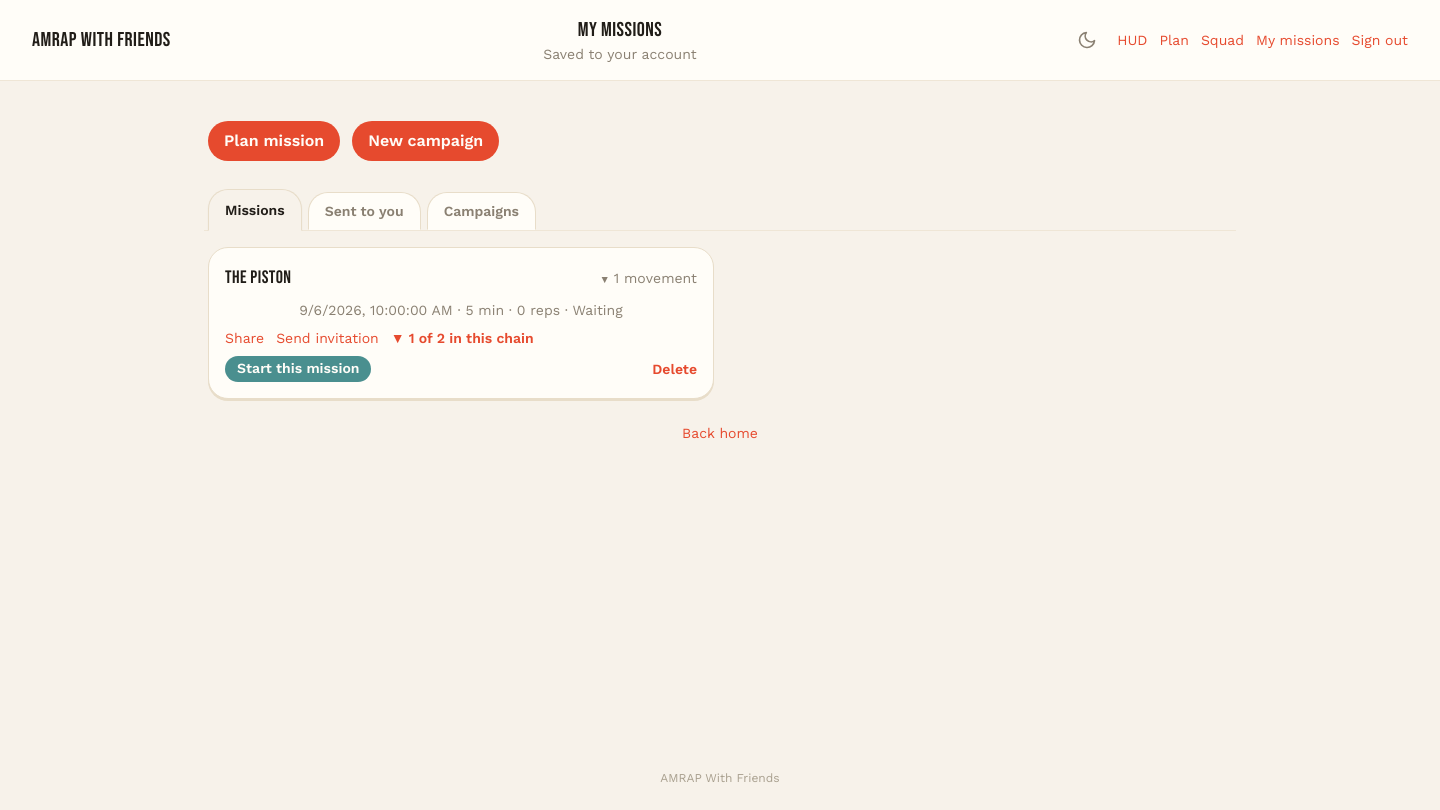
Scenario: MyMissionsPage chain groups › collapses daisy siblings and expands to reveal the older mission
Expected: the text "The Piston" is shown, 225,264 -> 292,292
Expected: the text "The Metronome" is not shown
Click the button with aria-label "Show chained missions" at (462, 338), box 391,328 -> 534,348
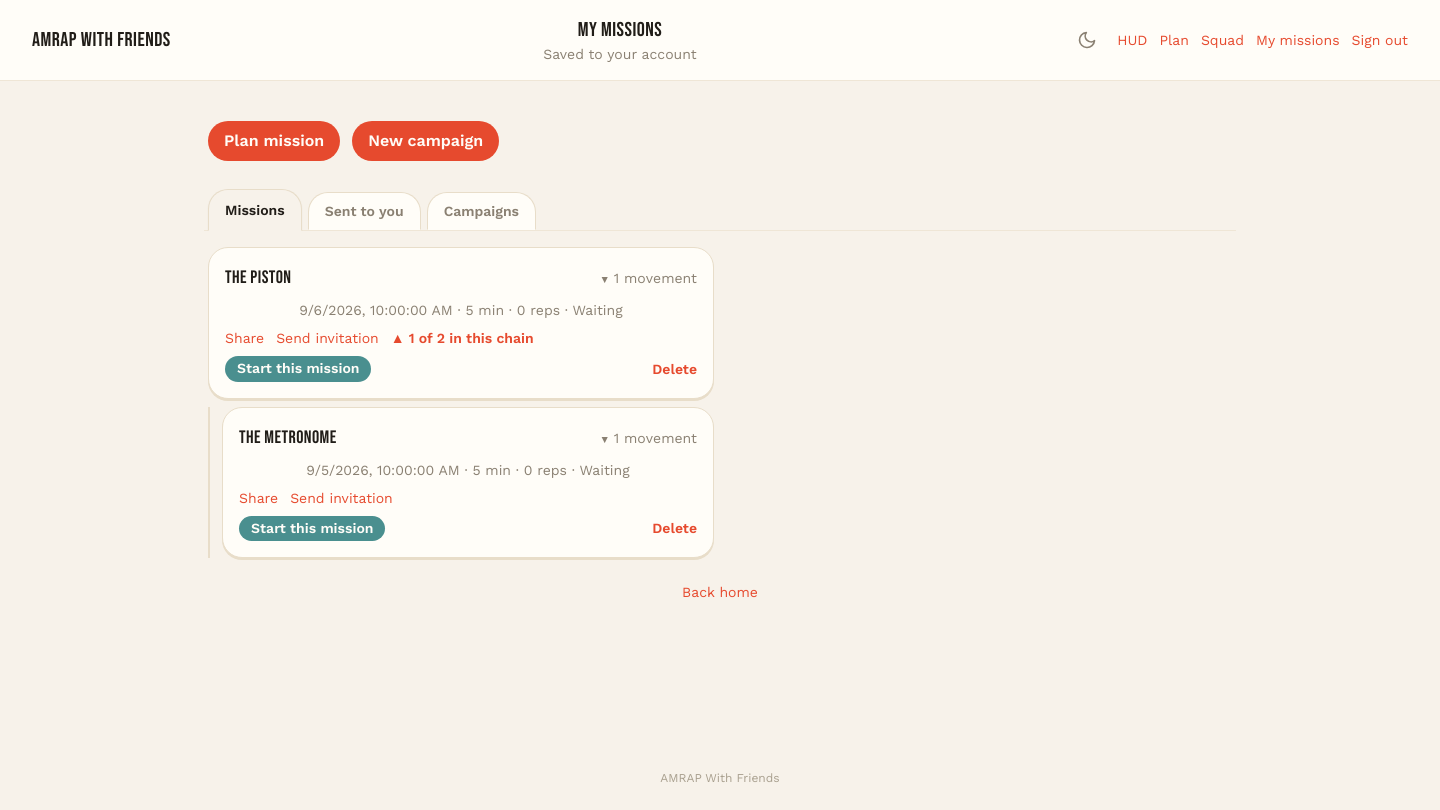
Result: the text "The Metronome" is shown at 239,424 -> 337,452
Result: the button with aria-label "Hide chained missions" is shown at 391,328 -> 534,348
